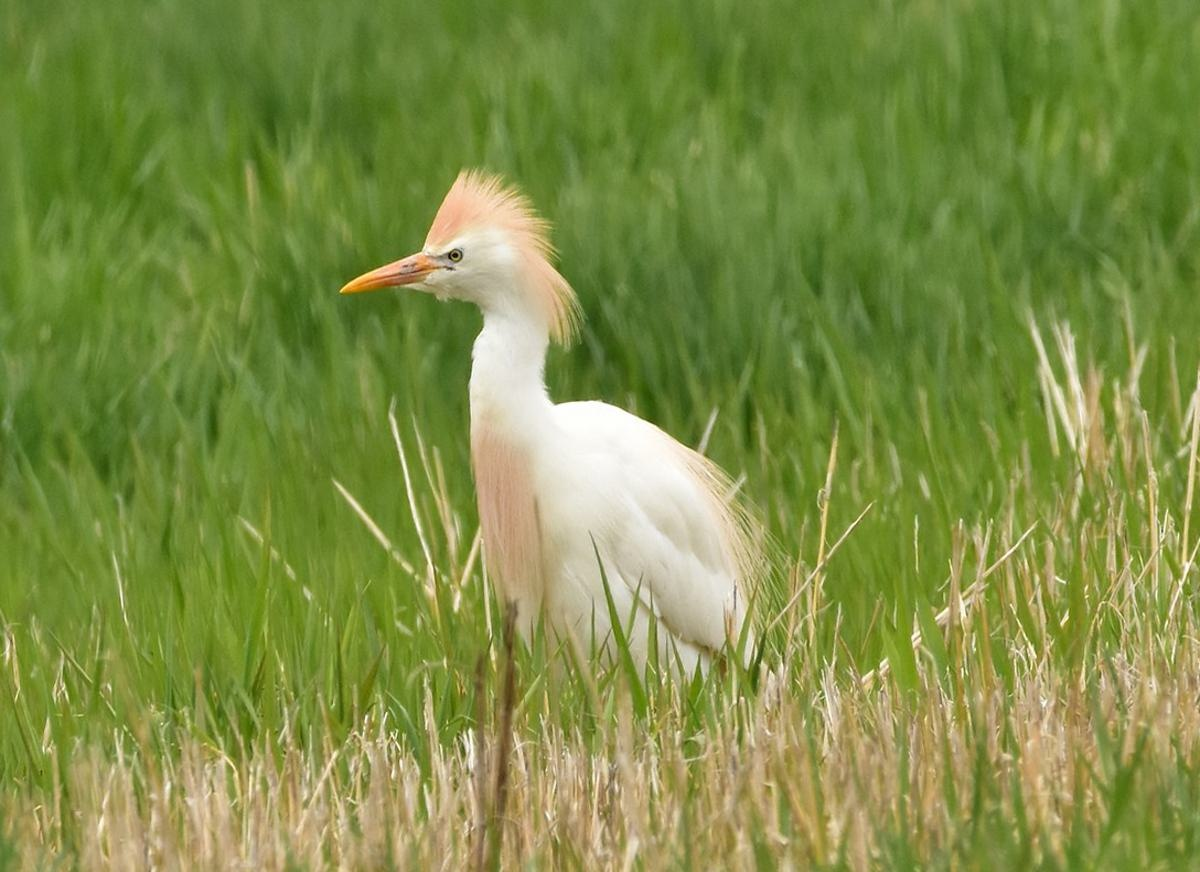egret: (338, 153, 811, 691)
